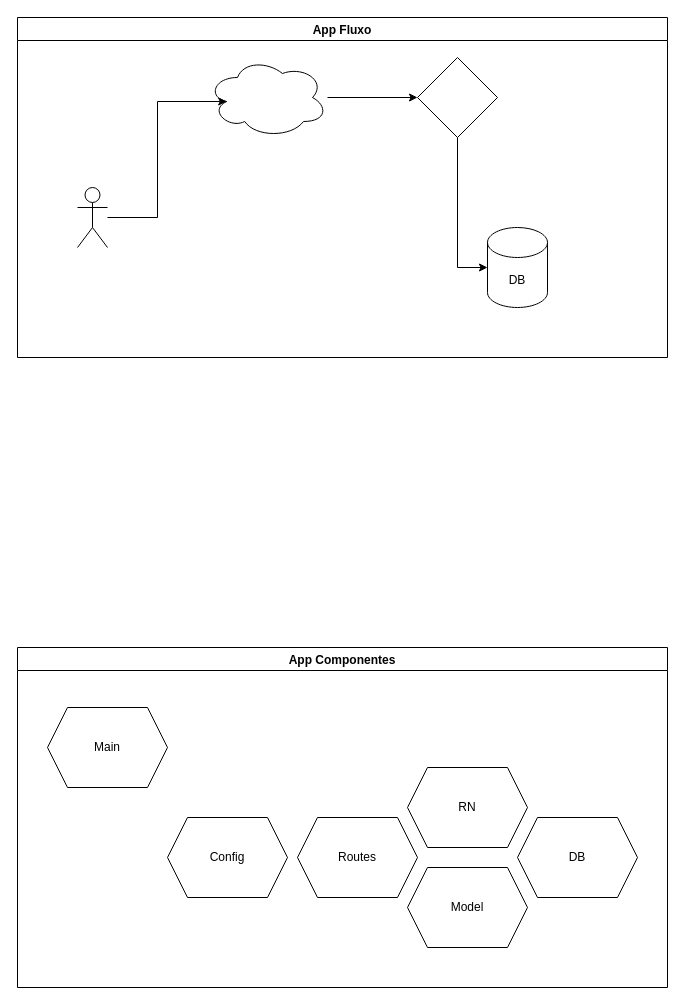
Some shapes in this 685 by 1005 pixel diagram are drawn without their labels. Each missing label, with the centre of its shape:
Actor: (x=92, y=217)
APP: (x=457, y=97)
Rede/Internet: (x=267, y=97)
